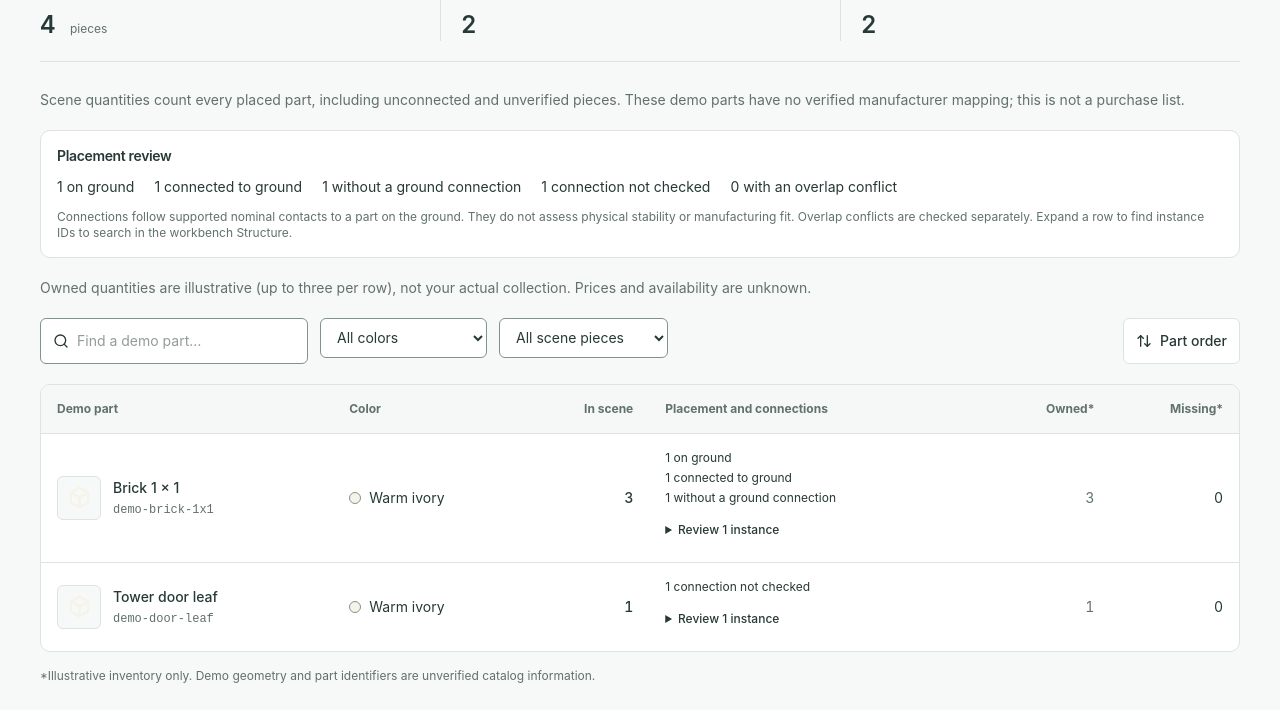
Test case: Scene inventory attachment review › preserves exact quantities while exposing unconnected and unsupported instances per row
(page scrolled)
Check: the element with test id "inventory-total" reads "4 pieces", box top-left (40, 10), bottom-right (107, 39)
Check: the text with test id "inventory-review-total" reads "2", box top-left (861, 10), bottom-right (876, 39)
Click the heading "Review 1 instance" in the row of "demo-brick-1x1" at (729, 529), box top-left (678, 522), bottom-right (779, 537)
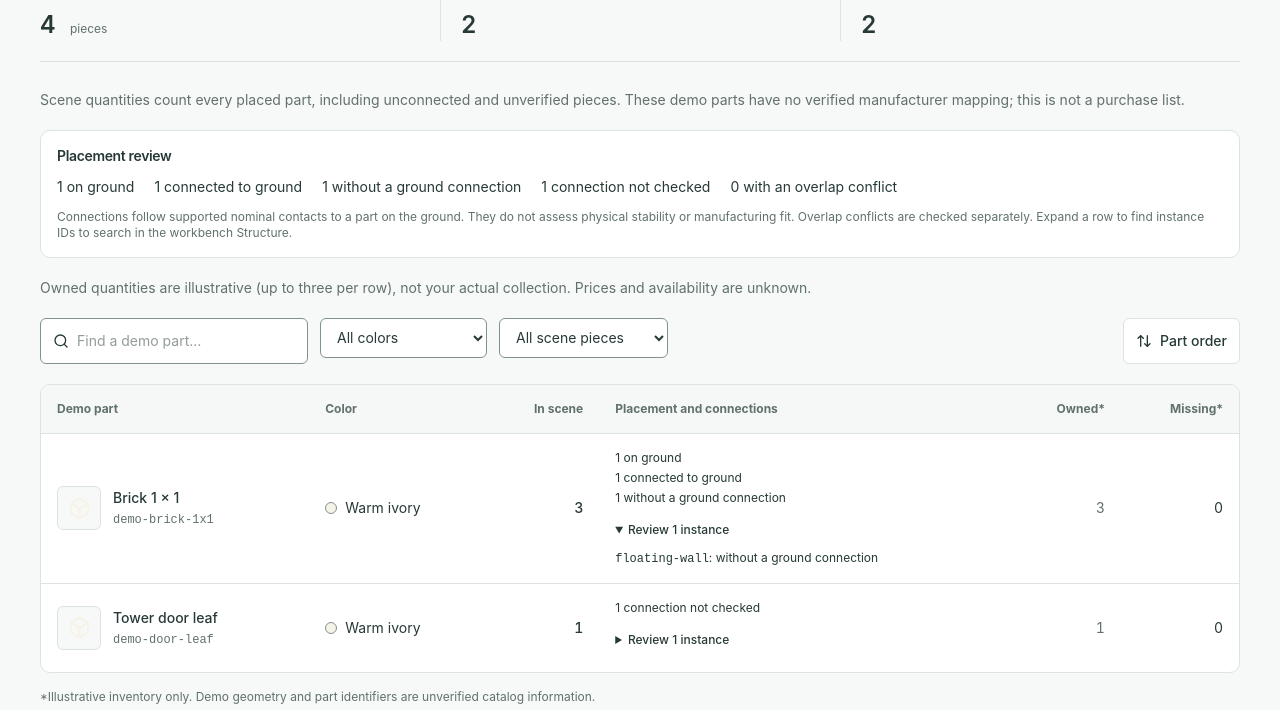
Check: the list item "1 connection not checked" in the row of "Tower door leaf" is shown, box top-left (615, 600), bottom-right (760, 615)
Check: the text "floating-wall" is shown, box top-left (615, 552), bottom-right (709, 566)
Click the heading "Review 1 instance" in the row of "demo-door-leaf" at (679, 639), box top-left (628, 632), bottom-right (729, 647)
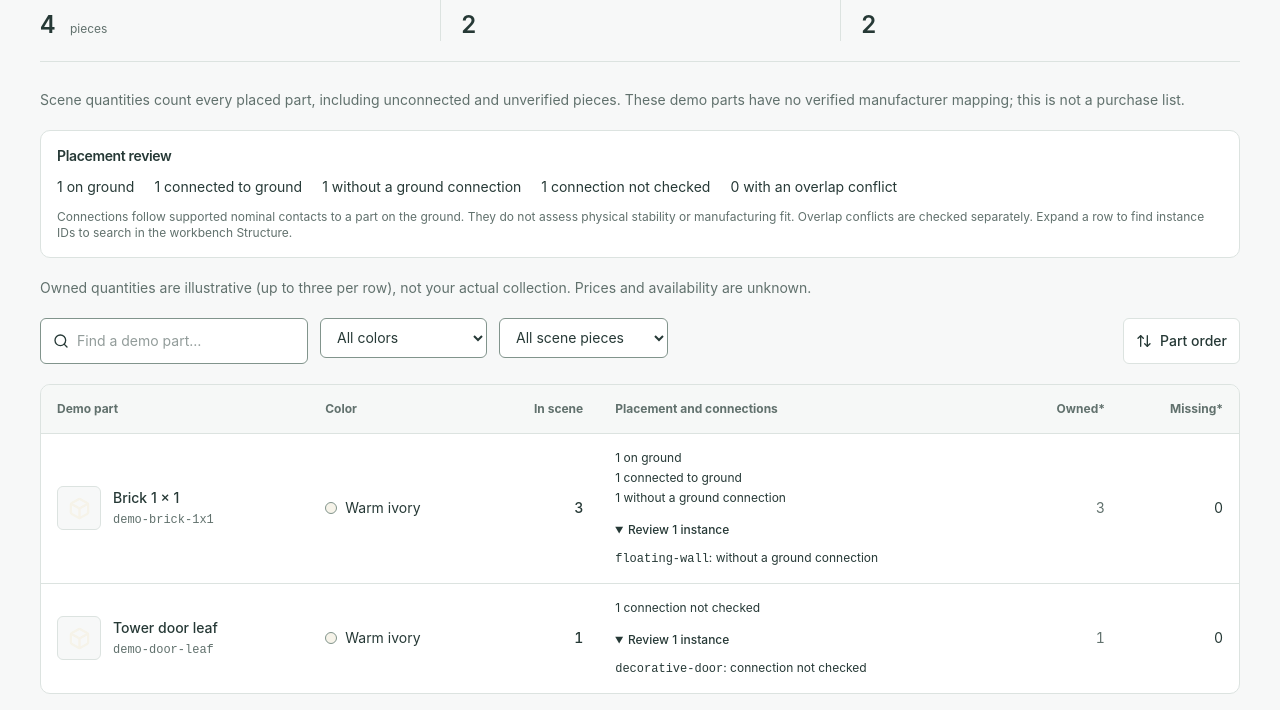
Check: the text "decorative-door" is shown, box top-left (615, 662), bottom-right (723, 676)
